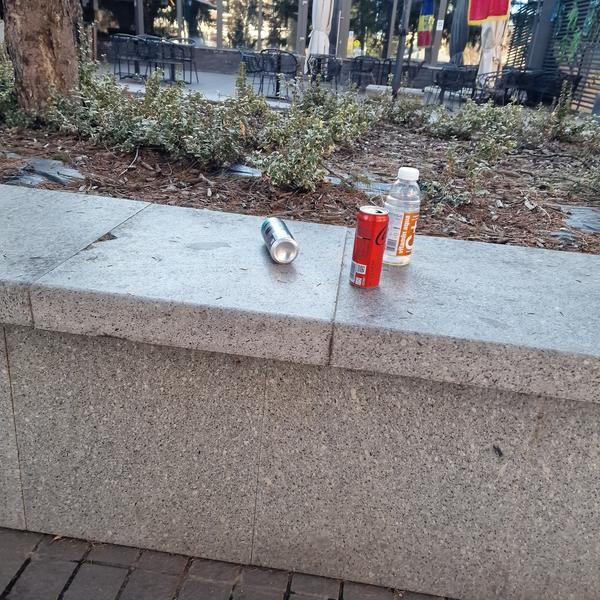can: (347, 202, 390, 291), (256, 211, 303, 269)
plastic_bottle: (374, 163, 428, 269)
